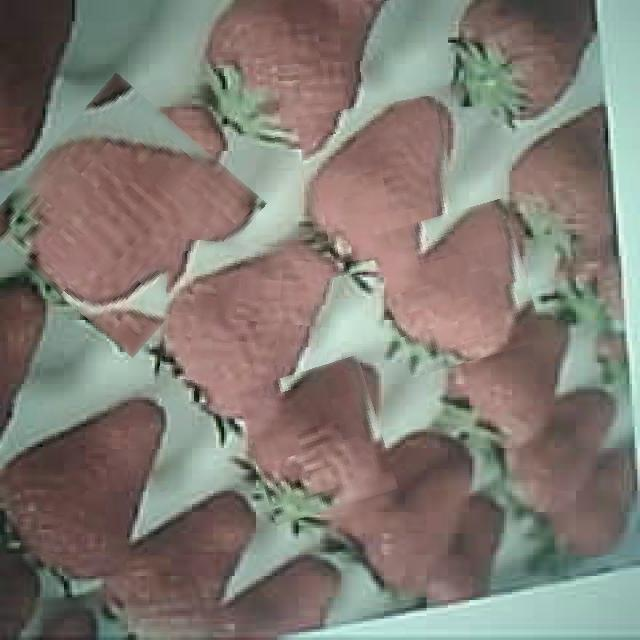strawberry: (3, 93, 245, 338), (160, 241, 332, 419), (0, 403, 166, 575), (209, 0, 397, 150), (301, 100, 457, 274), (380, 206, 536, 370), (243, 362, 389, 518)
